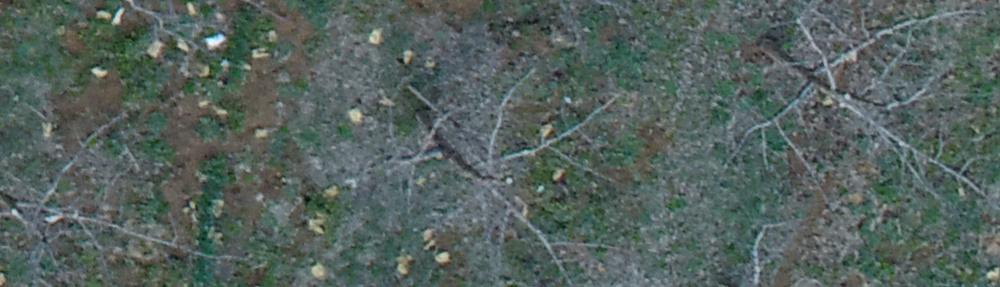apple: (383, 62, 622, 277), (743, 11, 990, 209), (10, 118, 239, 277)
